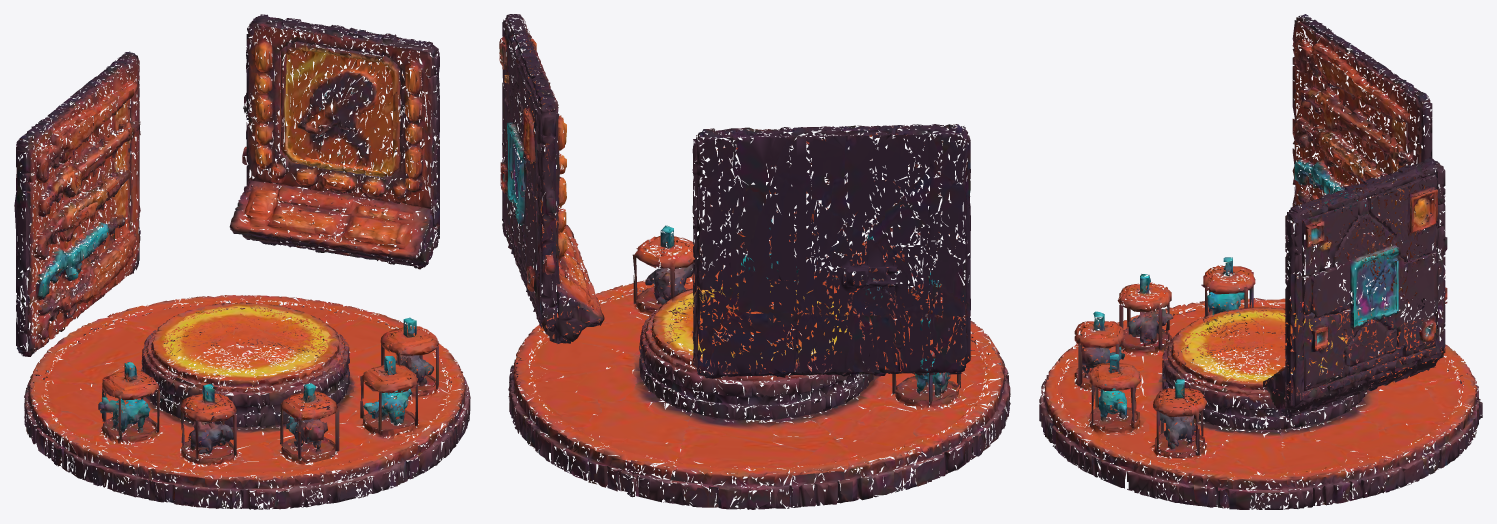
The model's file is cage.glb.
3 renders of one model, left to right at view 1: azimuth 30°, elevation 25°; view 2: azimuth 150°, elevation 25°; view 3: azimuth 270°, elevation 25°, orthographic. The views are drawn at different scales.
Parts seen in each view (by area): view 1: CustomizerCage_PedestalPetsRackMirrorClothing; view 2: CustomizerCage_PedestalPetsRackMirrorClothing; view 3: CustomizerCage_PedestalPetsRackMirrorClothing.
Boxes of the visible parts, x1=… form: CustomizerCage_PedestalPetsRackMirrorClothing: x1=14, y1=14, x2=470, y2=509; CustomizerCage_PedestalPetsRackMirrorClothing: x1=499, y1=14, x2=1010, y2=509; CustomizerCage_PedestalPetsRackMirrorClothing: x1=1039, y1=14, x2=1482, y2=509.
Bounding box in the file's own units: 0.9809 × 0.704 × 0.9155.
Materials: 1 (1 with a texture image).
